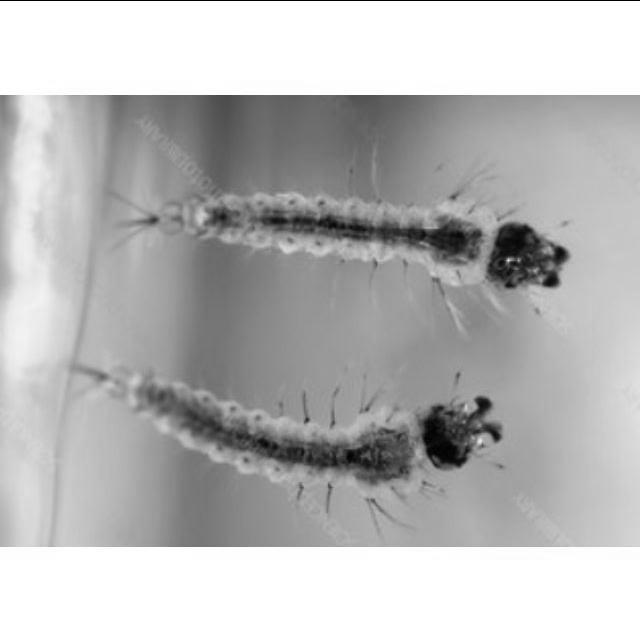larvas: (132, 155, 565, 298), (77, 360, 503, 495)
